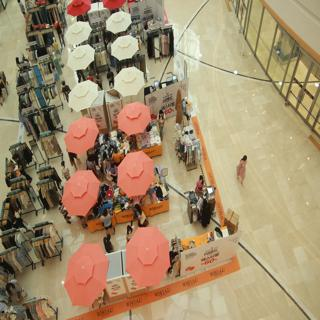person: (235, 144, 251, 186), (129, 199, 152, 223)
